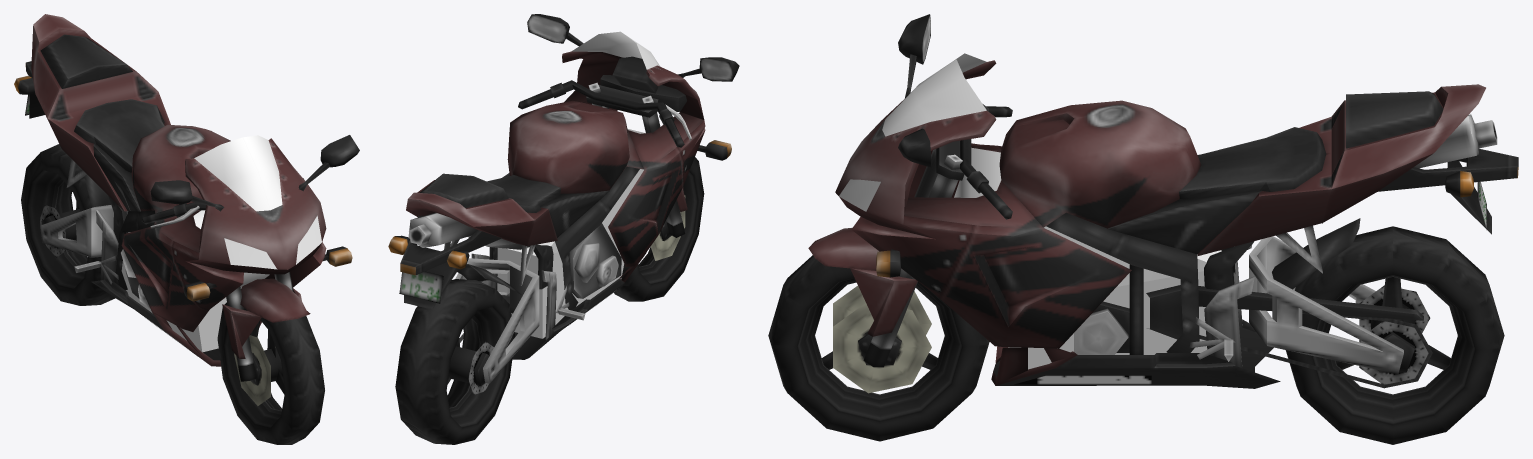
The model's file is Honda CBR.fbx.
The picture shows the model from 3 angles, left to right: view 1: azimuth 30°, elevation 25°; view 2: azimuth 150°, elevation 25°; view 3: azimuth 270°, elevation 25°; orthographic projection. The views are drawn at different scales.
Visible parts, largest first — view 1: Honda CBR, front wheel, rear wheel, steer; view 2: Honda CBR, rear wheel, front wheel, steer; view 3: Honda CBR, rear wheel, front wheel, steer.
Boxes of the visible parts, x1,y1,x2,y2 form: Honda CBR: (14,14,359,366); front wheel: (217,289,324,444); rear wheel: (21,144,119,305); steer: (141,178,310,381); Honda CBR: (388,14,739,383); rear wheel: (395,279,515,444); front wheel: (614,157,704,301); steer: (518,80,691,237); Honda CBR: (835,14,1518,388); rear wheel: (1285,226,1504,444); front wheel: (768,255,989,441); steer: (808,104,1012,367).
Bounding box in the file's own units: 86.18 × 114 × 206.
Materials: 5 (4 with a texture image).
